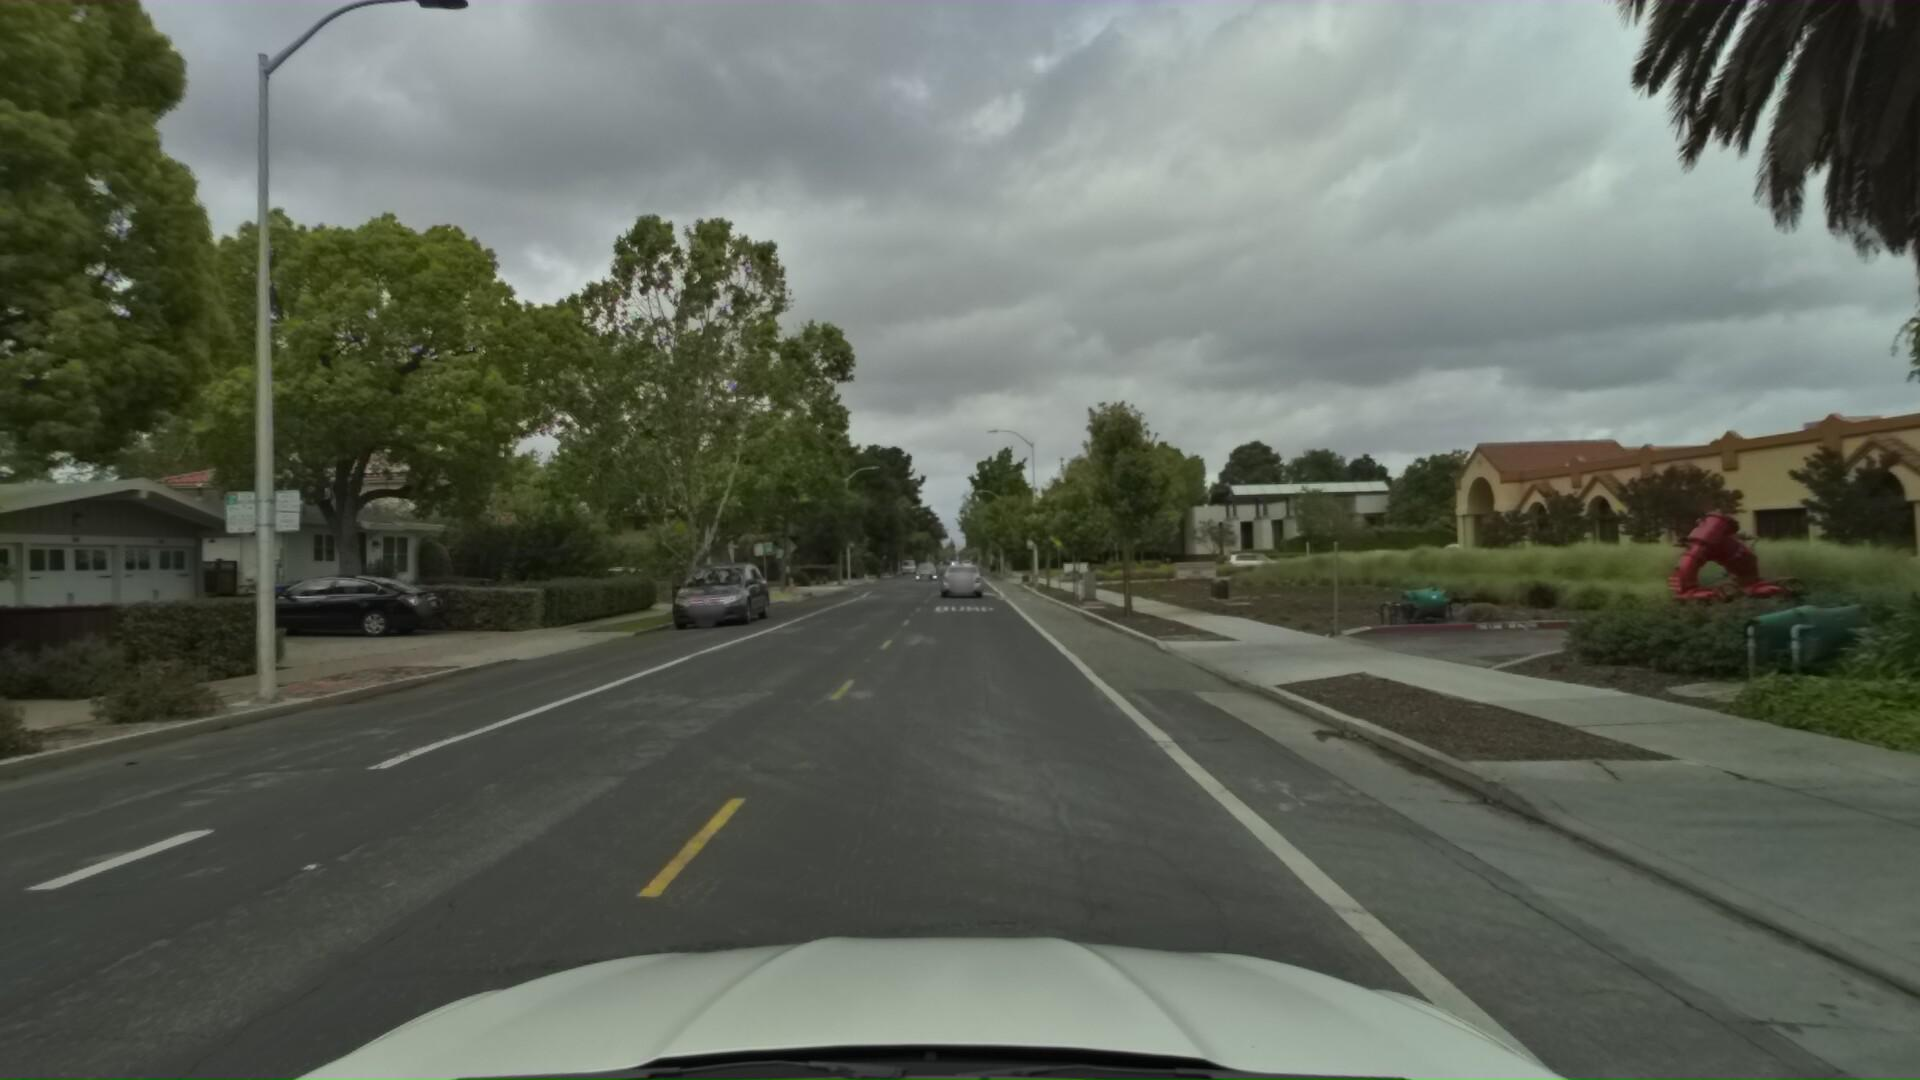car: (211, 564, 448, 640), (663, 553, 775, 625), (935, 555, 982, 601), (1215, 545, 1290, 568), (910, 560, 934, 582)
